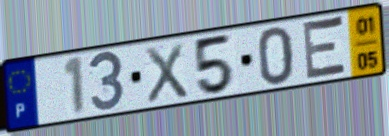0: (256, 24, 296, 87)
1: (61, 53, 86, 119)
3: (87, 47, 128, 116)
5: (192, 30, 237, 98)
E: (301, 13, 350, 83)
X: (142, 40, 191, 106)
